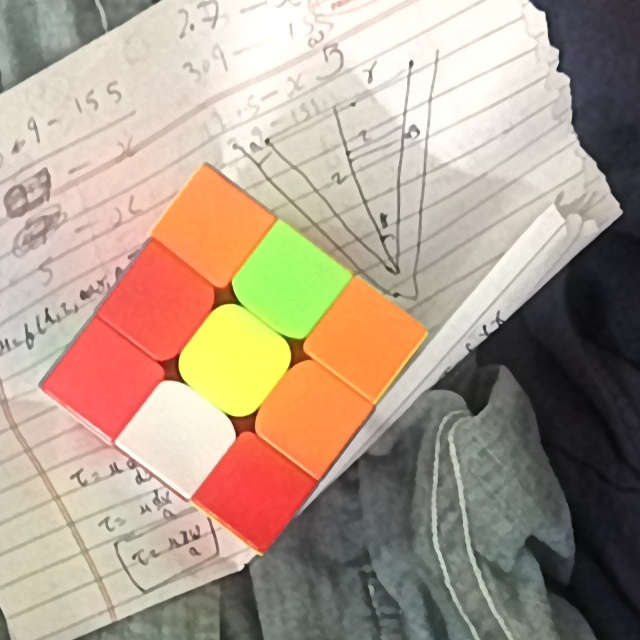tile: (330, 309, 398, 373), (69, 350, 138, 410), (200, 329, 265, 392), (147, 403, 212, 466), (278, 387, 344, 448), (256, 254, 319, 315), (182, 199, 247, 258), (127, 273, 190, 333), (223, 463, 288, 518)
